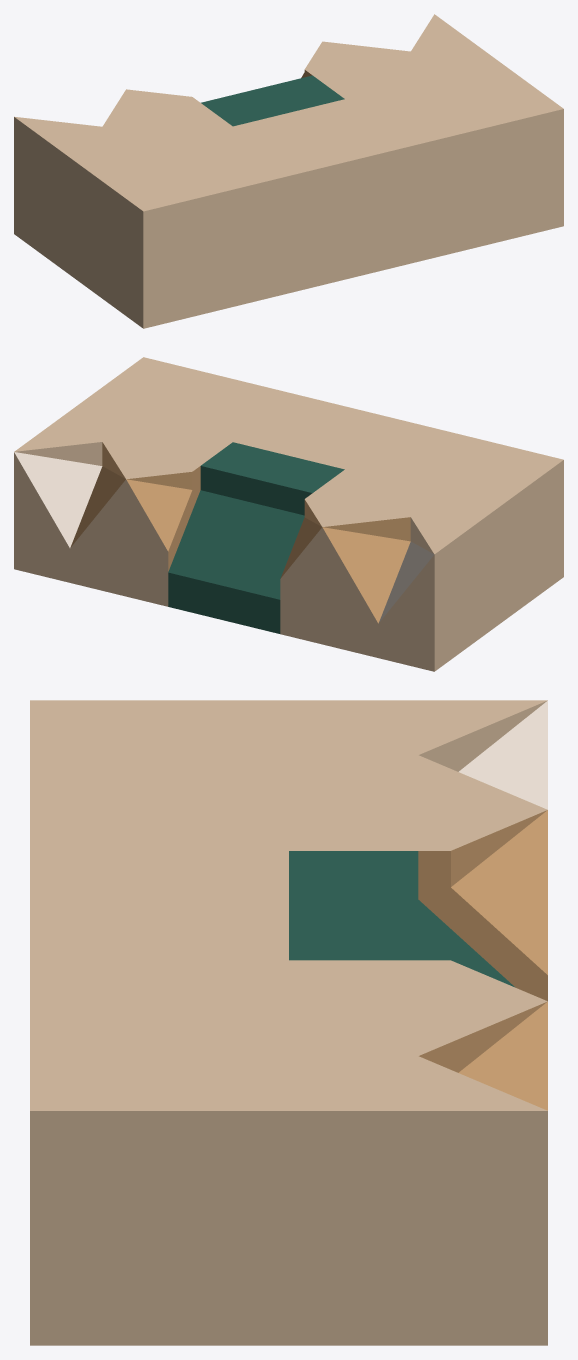
The model's file is Puzzle_Floor_Wall_Conduit_Connector.fbx.
The picture shows the model from 3 angles, top to bottom: view 1: azimuth 30°, elevation 25°; view 2: azimuth 150°, elevation 25°; view 3: azimuth 270°, elevation 25°; orthographic projection. The views are drawn at different scales.
Parts seen in each view (by area): view 1: Sandstone_Trim.Sandstone_Trim.Sandstone_Trim.Sandstone_Trim., object1; view 2: Sandstone_Trim.Sandstone_Trim.Sandstone_Trim.Sandstone_Trim., object1, Sandstone_5.Sandstone_5.Sandstone_5.Sandstone_5.Sandstone_5., Sandstone_Floor.Sandstone_Floor; view 3: Sandstone_Trim.Sandstone_Trim.Sandstone_Trim.Sandstone_Trim., Sandstone_5.Sandstone_5.Sandstone_5.Sandstone_5.Sandstone_5., object1, Sandstone_Floor.Sandstone_Floor.
Part boxes in pixels (bbox=[...]): Sandstone_Trim.Sandstone_Trim.Sandstone_Trim.Sandstone_Trim.: bbox=[14, 14, 563, 328]; object1: bbox=[201, 75, 344, 126]; Sandstone_Trim.Sandstone_Trim.Sandstone_Trim.Sandstone_Trim.: bbox=[14, 357, 563, 671]; object1: bbox=[168, 442, 344, 633]; Sandstone_5.Sandstone_5.Sandstone_5.Sandstone_5.Sandstone_5.: bbox=[70, 442, 410, 623]; Sandstone_Floor.Sandstone_Floor: bbox=[14, 452, 434, 622]; Sandstone_Trim.Sandstone_Trim.Sandstone_Trim.Sandstone_Trim.: bbox=[30, 700, 547, 1345]; Sandstone_5.Sandstone_5.Sandstone_5.Sandstone_5.Sandstone_5.: bbox=[418, 810, 547, 1110]; object1: bbox=[289, 851, 515, 987]; Sandstone_Floor.Sandstone_Floor: bbox=[459, 700, 547, 809].
Bounding box in the file's own units: 0.375 × 0.1 × 0.2.
